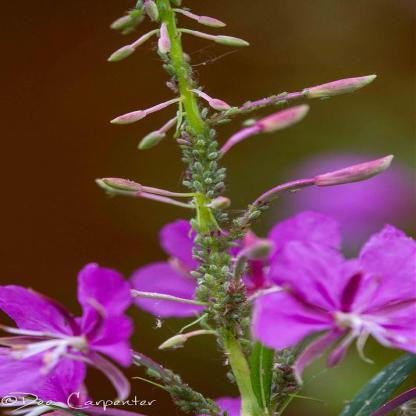aphid: (192, 234, 244, 328), (178, 128, 226, 196), (164, 382, 206, 410), (246, 90, 290, 116), (277, 351, 296, 395), (202, 109, 241, 123), (158, 49, 178, 73), (246, 203, 266, 220), (229, 221, 241, 247)
